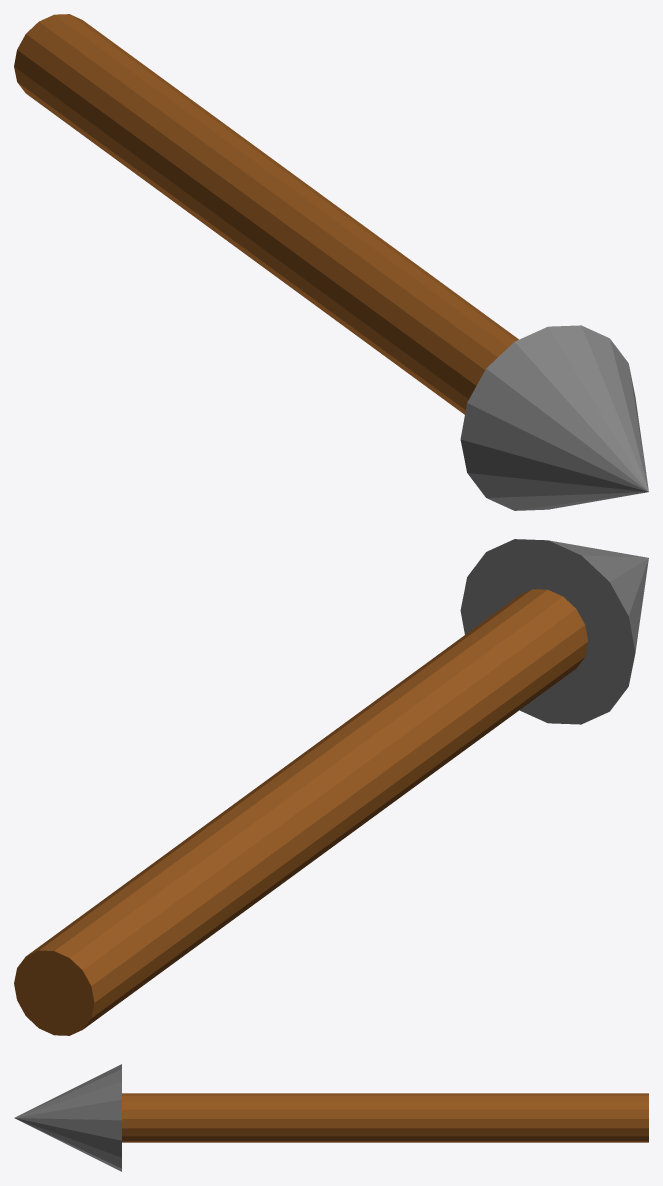
Rendered from bullet.obj.
3 renders of one model, top to bottom at view 1: azimuth 30°, elevation 25°; view 2: azimuth 150°, elevation 25°; view 3: azimuth 270°, elevation 25°, orthographic. The views are drawn at different scales.
Visible parts, largest first — view 1: 円錐; view 2: 円錐; view 3: 円錐.
Part boxes in pixels (<box>): 円錐: <box>14,14,648,510</box>; 円錐: <box>14,539,648,1035</box>; 円錐: <box>14,1064,648,1171</box>.
Size of the model in its own units: 0.4021 by 0.4021 by 2.37.
1 material, 1 textured.
